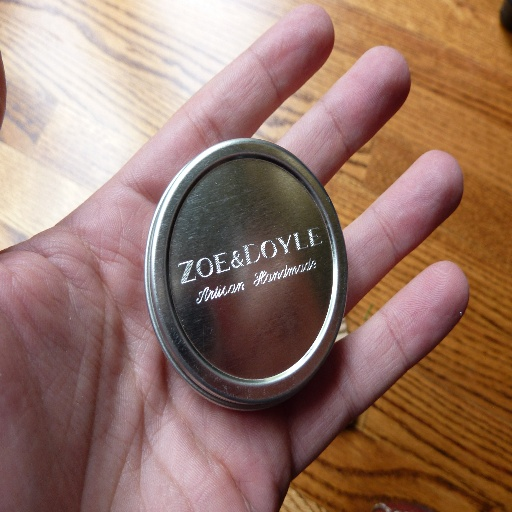hand: (60, 0, 456, 512)
